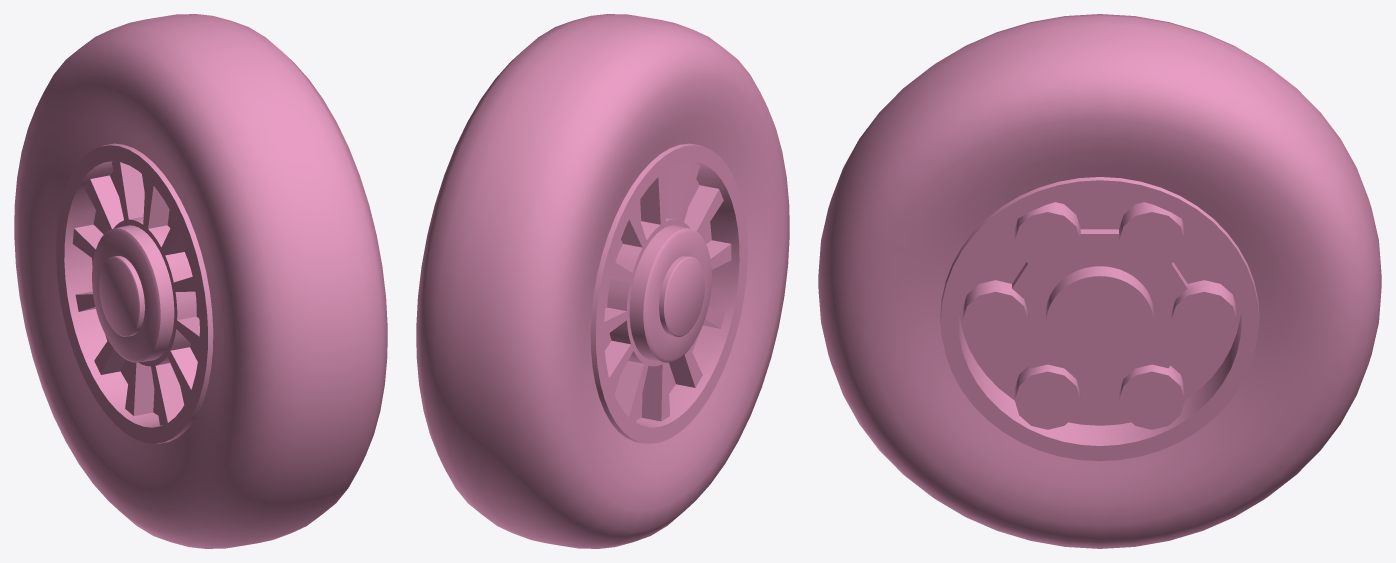
Rendered from RearWheel.fbx.
The picture shows the model from 3 angles, left to right: view 1: azimuth 30°, elevation 25°; view 2: azimuth 150°, elevation 25°; view 3: azimuth 270°, elevation 25°; orthographic projection. The views are drawn at different scales.
Visible parts, largest first — view 1: RightWheel; view 2: RightWheel; view 3: RightWheel.
Part boxes in pixels (left/top/right/bottom): RightWheel: left=14, top=14, right=387, bottom=548; RightWheel: left=416, top=14, right=789, bottom=548; RightWheel: left=818, top=14, right=1381, bottom=548.
Size of the model in its own units: 23.99 by 67.47 by 67.42.
